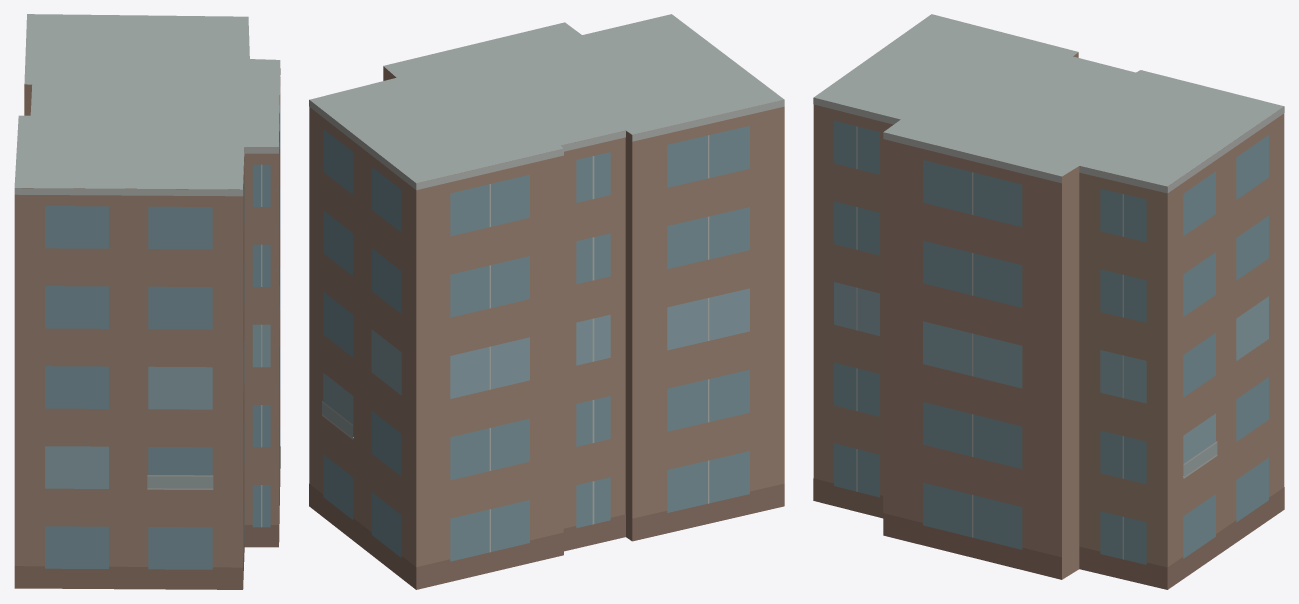
The model's file is survey-upis-32686262.glb.
3 views of the same model, side by side, from view 1: azimuth 30°, elevation 25°; view 2: azimuth 150°, elevation 25°; view 3: azimuth 270°, elevation 25° (orthographic).
Parts seen in each view (by area): view 1: survey-upis-32686262.tmp; view 2: survey-upis-32686262.tmp; view 3: survey-upis-32686262.tmp.
Boxes of the visible parts, x1,y1,x2,y2 form: survey-upis-32686262.tmp: [14, 14, 280, 589]; survey-upis-32686262.tmp: [309, 14, 784, 589]; survey-upis-32686262.tmp: [813, 14, 1284, 589].
Bounding box in the file's own units: 13.2 × 14.37 × 15.21.
